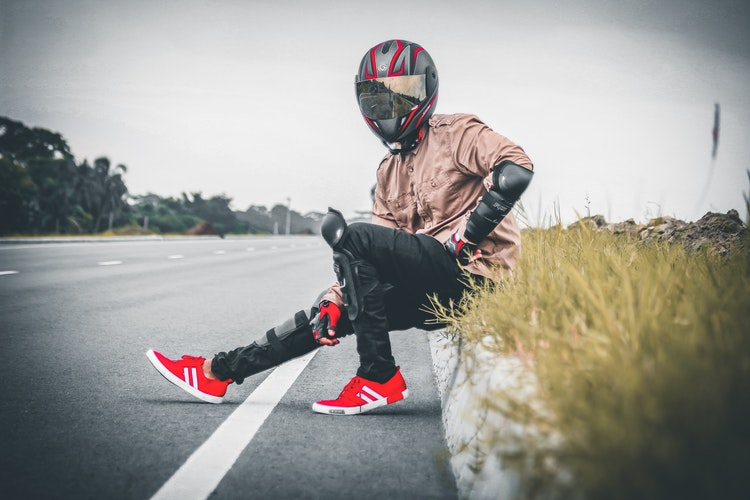helmet: (350, 44, 458, 152)
